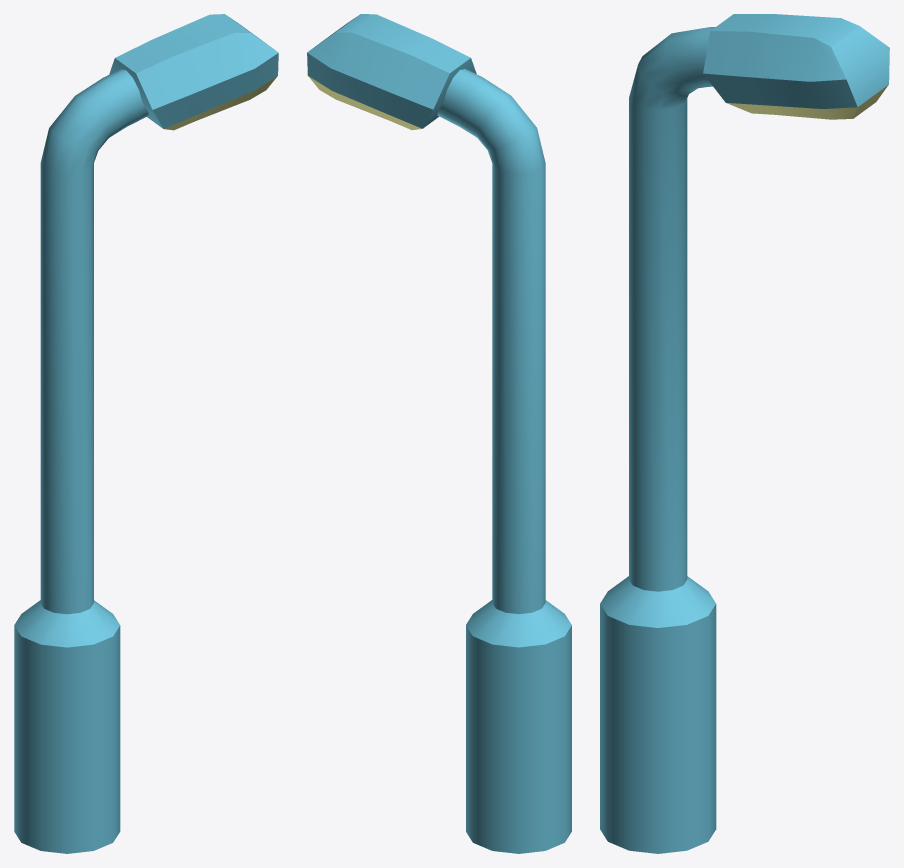
Rendered from lantern01_s02.FBX.
3 renders of one model, left to right at view 1: azimuth 30°, elevation 25°; view 2: azimuth 150°, elevation 25°; view 3: azimuth 330°, elevation 25°, orthographic. The views are drawn at different scales.
Parts seen in each view (by area): view 1: lantern01_s02; view 2: lantern01_s02; view 3: lantern01_s02.
Boxes of the visible parts, <box> form: lantern01_s02: <box>14,14,278,853</box>; lantern01_s02: <box>307,14,571,853</box>; lantern01_s02: <box>600,14,889,853</box>.
Bounding box in the file's own units: 134 × 50.63 × 406.
1 material, 1 textured.
